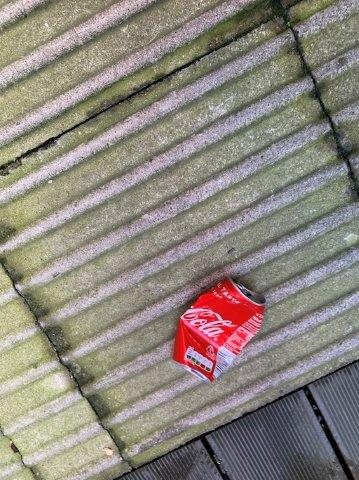kaleng: (172, 279, 264, 381)
